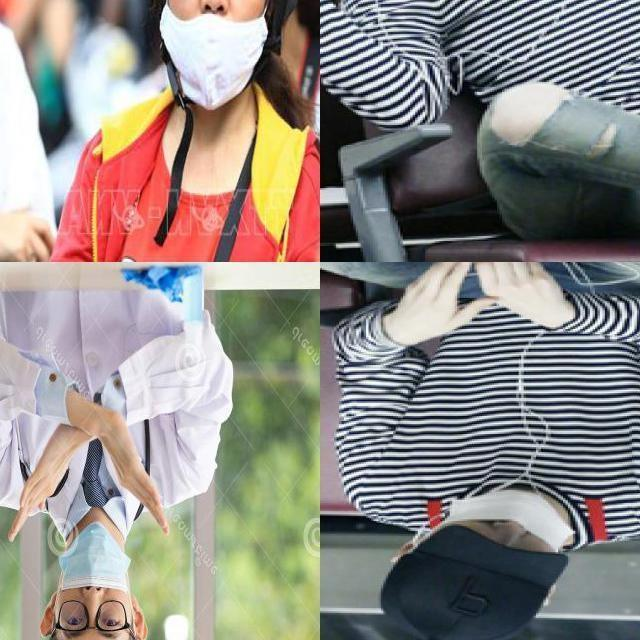hairnet: (170, 0, 259, 102), (450, 486, 570, 558), (59, 527, 128, 612)
